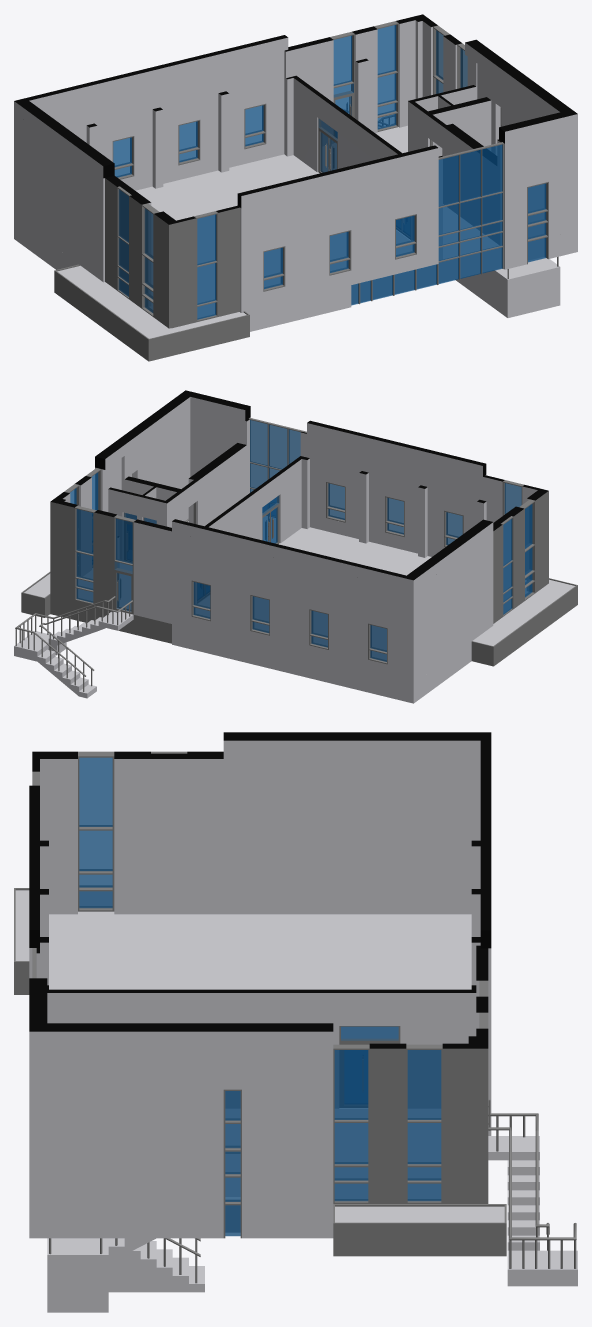
3 views of the same model, one above another, from view 1: azimuth 30°, elevation 25°; view 2: azimuth 150°, elevation 25°; view 3: azimuth 270°, elevation 25° (orthographic). The views are drawn at different scales.
Visible parts, largest first — view 1: 2층 내벽, 2층 유리창, 지붕 벽, 2층 바닥, 2층 외부 마감재3, 층간 슬라브, 내부 계단, 슬라브 마감, 2층 중문, 2층 유리문; view 2: 2층 내벽, 2층 유리창, 지붕 벽, 층간 슬라브, 2층 바닥, 2층 외부 마감재3, 외부 계단, 2층 유리문, 2층 중문; view 3: 2층 내벽, 2층 바닥, 2층 유리창, 지붕 벽, 2층 외부 마감재3, 층간 슬라브, 내부 계단, 외부 계단, 2층 중문.
Boxes of the visible parts, box(x1,y1,x2,y2) form: 2층 내벽: box(14, 14, 577, 328); 2층 유리창: box(112, 21, 548, 321); 지붕 벽: box(14, 35, 577, 208); 2층 바닥: box(135, 125, 498, 317); 2층 외부 마감재3: box(54, 264, 249, 361); 층간 슬라브: box(14, 217, 577, 331); 내부 계단: box(455, 256, 560, 317); 슬라브 마감: box(351, 238, 544, 303); 2층 중문: box(318, 118, 410, 239); 2층 유리문: box(333, 81, 354, 137); 2층 내벽: box(50, 407, 548, 683); 2층 유리창: box(64, 418, 535, 664); 지붕 벽: box(95, 390, 493, 591); 층간 슬라브: box(50, 507, 471, 703); 2층 바닥: box(78, 516, 527, 659); 2층 외부 마감재3: box(21, 572, 577, 666); 외부 계단: box(14, 596, 133, 698); 2층 유리문: box(114, 512, 156, 614); 2층 중문: box(197, 495, 279, 602); 2층 내벽: box(29, 751, 491, 1205); 2층 바닥: box(49, 911, 471, 1198); 2층 유리창: box(32, 751, 488, 1238); 지붕 벽: box(29, 732, 491, 1049); 2층 외부 마감재3: box(14, 888, 506, 1256); 층간 슬라브: box(29, 1104, 491, 1238); 내부 계단: box(47, 1238, 204, 1312); 외부 계단: box(488, 1113, 577, 1286); 2층 중문: box(339, 1026, 400, 1107).
Bounding box in the file's own units: 26.1 × 10.5 × 18.55.
